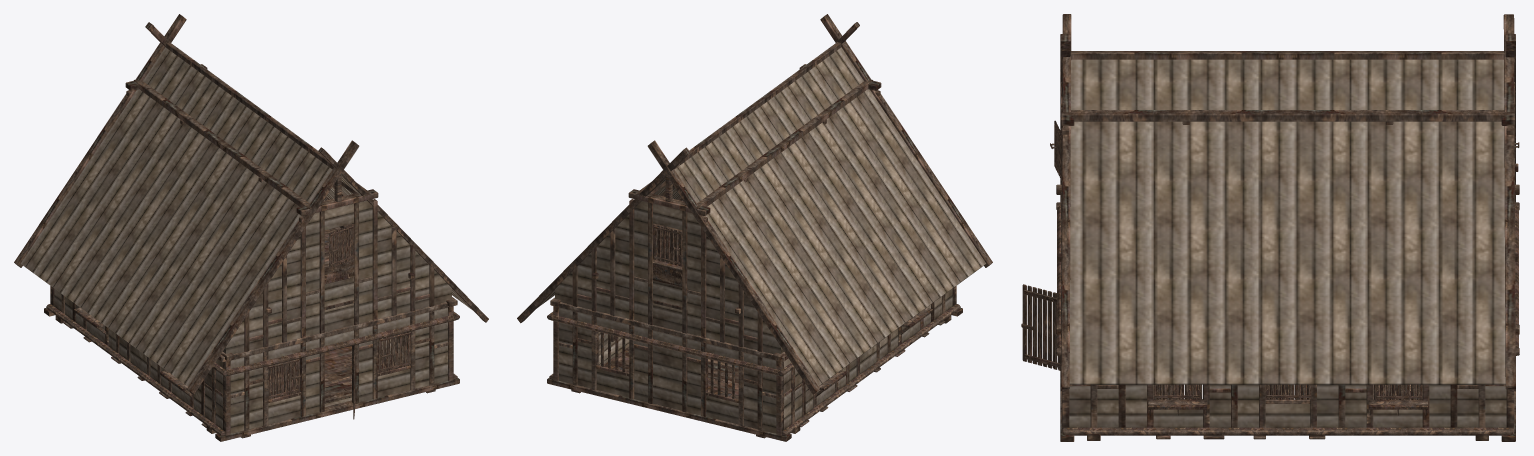
Rendered from Wood House.fbx.
3 views of the same model, side by side, from view 1: azimuth 30°, elevation 25°; view 2: azimuth 150°, elevation 25°; view 3: azimuth 270°, elevation 25° (orthographic). The views are drawn at different scales.
Visible parts, largest first — view 1: Wooden House; view 2: Wooden House; view 3: Wooden House, Wooden Board.
Boxes of the visible parts, x1,y1,x2,y2 form: Wooden House: [14, 14, 488, 441]; Wooden House: [517, 14, 992, 441]; Wooden House: [1050, 14, 1519, 441]; Wooden Board: [1021, 284, 1060, 370].
Size of the model in its own units: 1590 by 1367 by 1778.
Materials: 2 (2 with a texture image).
